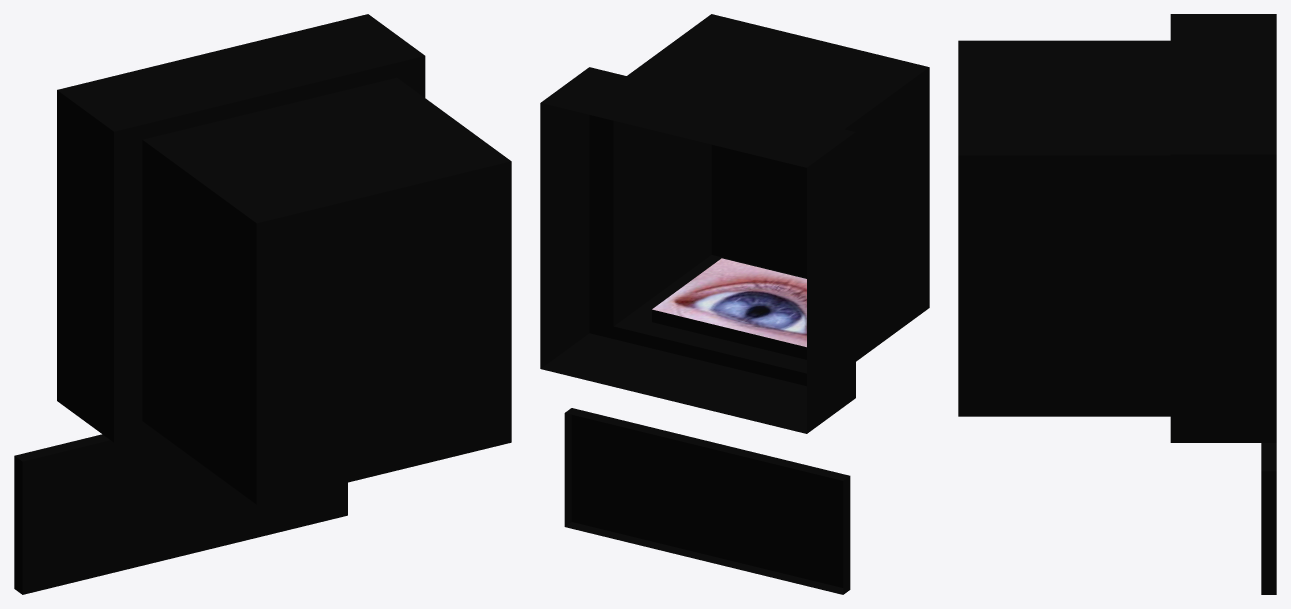
The model's file is computer54_wtf.obj.
3 views of the same model, side by side, from view 1: azimuth 30°, elevation 25°; view 2: azimuth 150°, elevation 25°; view 3: azimuth 270°, elevation 25° (orthographic). The views are drawn at different scales.
Parts seen in each view (by area): view 1: group4, group2; view 2: group4, group2, group3; view 3: group4, group2.
Part boxes in pixels (left/top/right/bottom): group4: left=57, top=14, right=511, bottom=504; group2: left=14, top=432, right=347, bottom=594; group4: left=540, top=14, right=929, bottom=433; group2: left=564, top=408, right=850, bottom=594; group3: left=652, top=258, right=806, bottom=347; group4: left=958, top=14, right=1276, bottom=442; group2: left=1261, top=443, right=1276, bottom=594.
Size of the model in its own units: 500 by 660 by 420.
